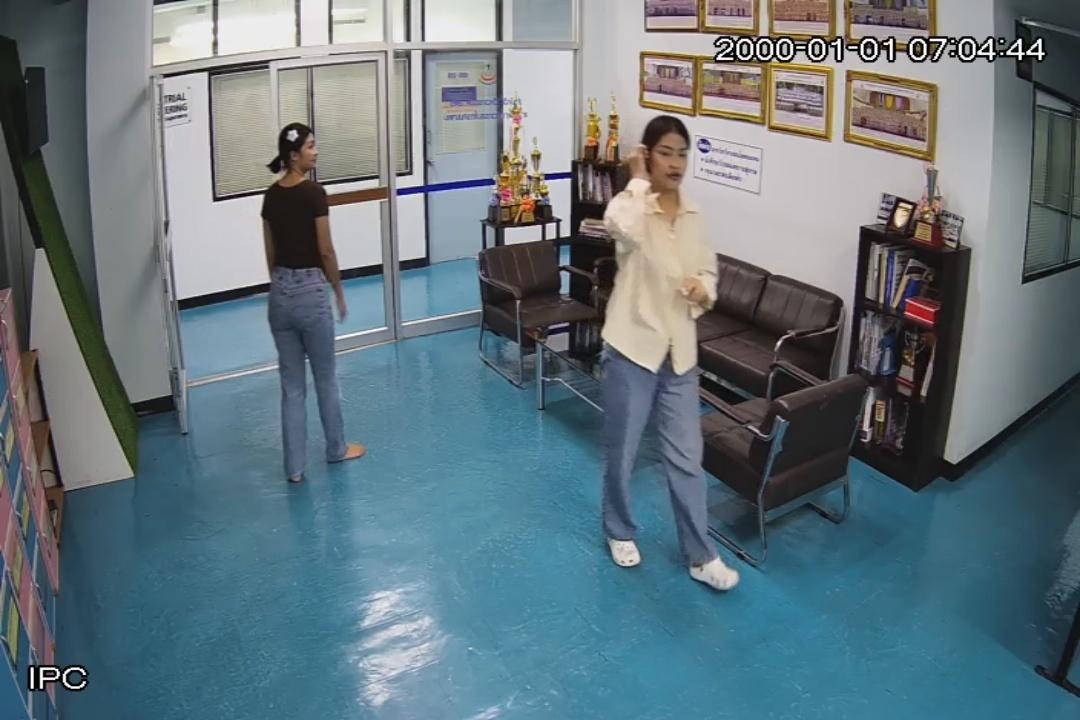normal: (599, 118, 736, 588), (259, 122, 367, 478)
